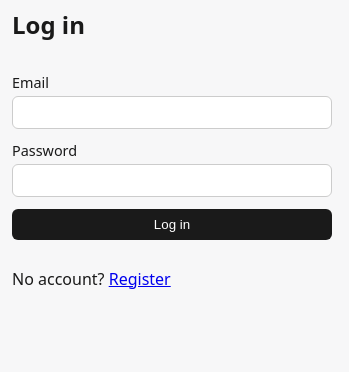
Test case: Login › shows the server error message on failed login
The image size is (349, 372).
Type "shopper@example.com" into the field labelled "Email" at (172, 112), box [12, 96, 332, 129]
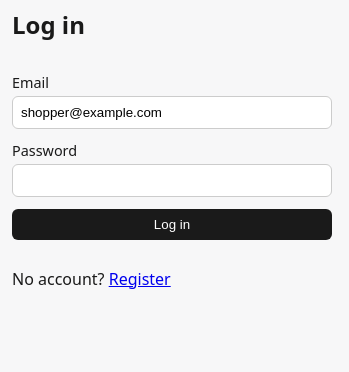
Type "wrongpassword" into the password field labelled "Password" at (172, 180), box [12, 164, 332, 197]
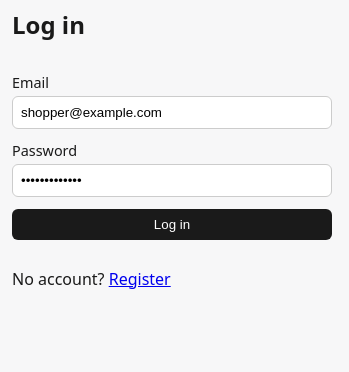
Click the button "Log in" at (172, 224), box [12, 209, 332, 240]
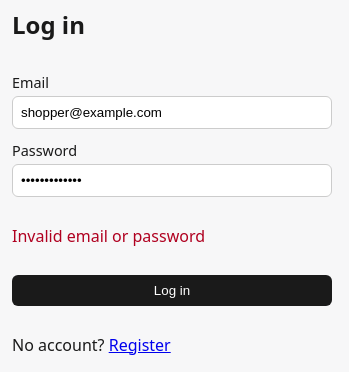
Expected: the text "Invalid email or password" is shown, [12, 225, 205, 247]
